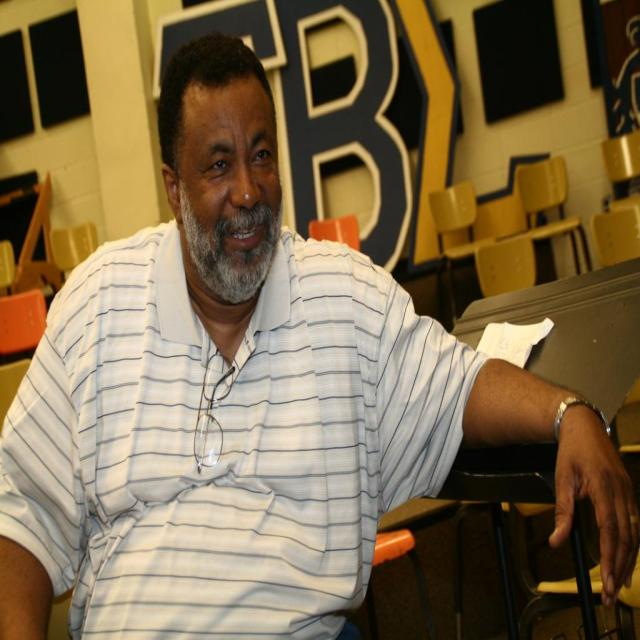Face: (169, 66, 281, 322)
